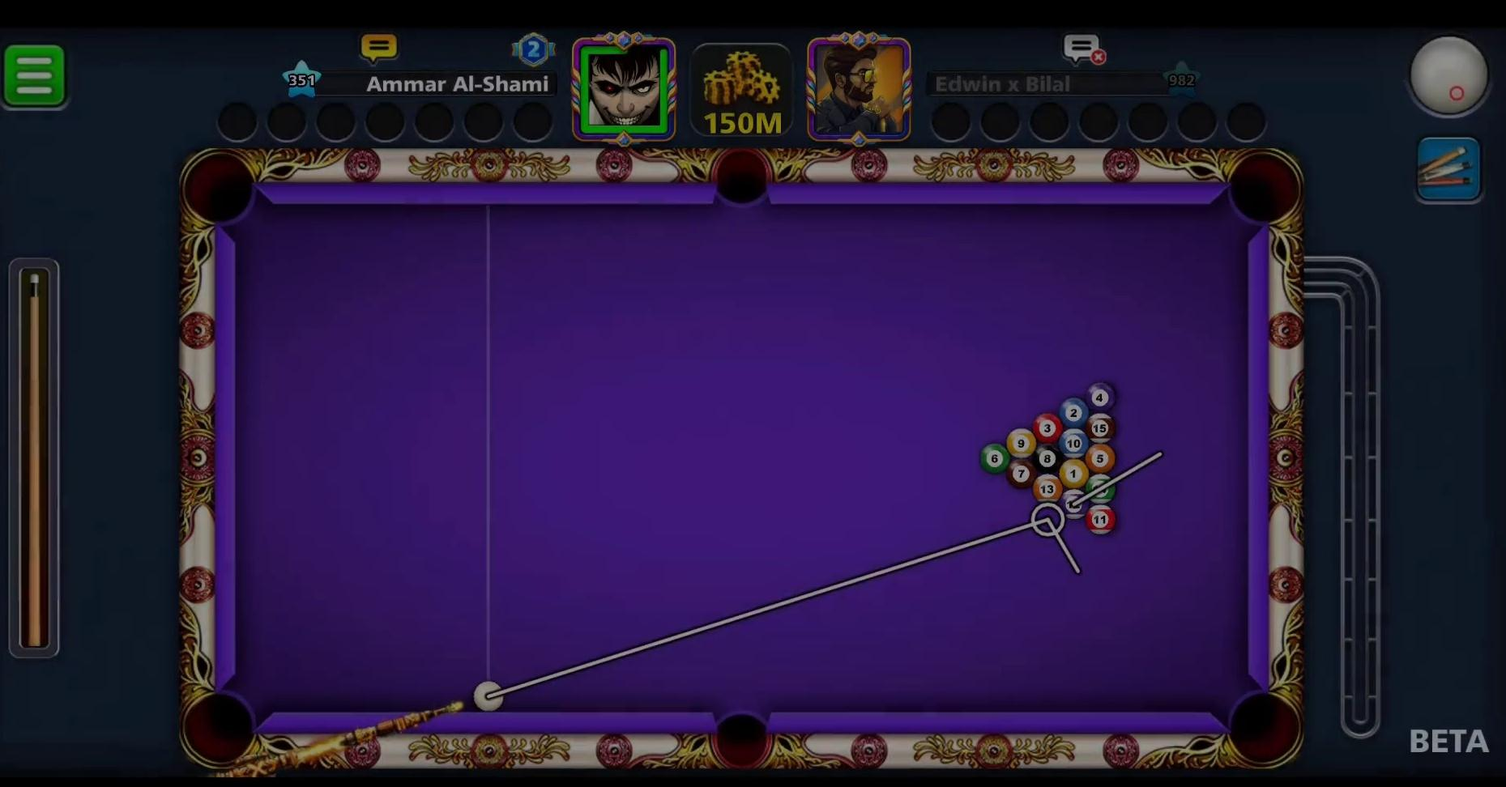Ball: (1001, 424, 1038, 461), (1058, 455, 1091, 491), (1083, 378, 1116, 413), (1084, 504, 1120, 536), (1056, 394, 1088, 430), (1004, 456, 1036, 491), (1058, 426, 1090, 459), (1059, 488, 1091, 521), (1085, 442, 1116, 474), (1085, 411, 1116, 443), (1032, 411, 1063, 443), (1032, 442, 1063, 473), (1032, 474, 1063, 504), (1083, 474, 1114, 504), (979, 442, 1009, 473)
Force: (0, 258, 65, 659)
Guideline: (476, 438, 1177, 703)
Hole: (1213, 675, 1312, 776), (174, 675, 270, 776), (1215, 140, 1308, 236), (694, 687, 791, 778), (173, 141, 267, 233), (698, 138, 783, 219)
Play_Area: (234, 204, 1244, 714)
Spin: (1401, 27, 1504, 129)
White: (467, 679, 512, 715)
